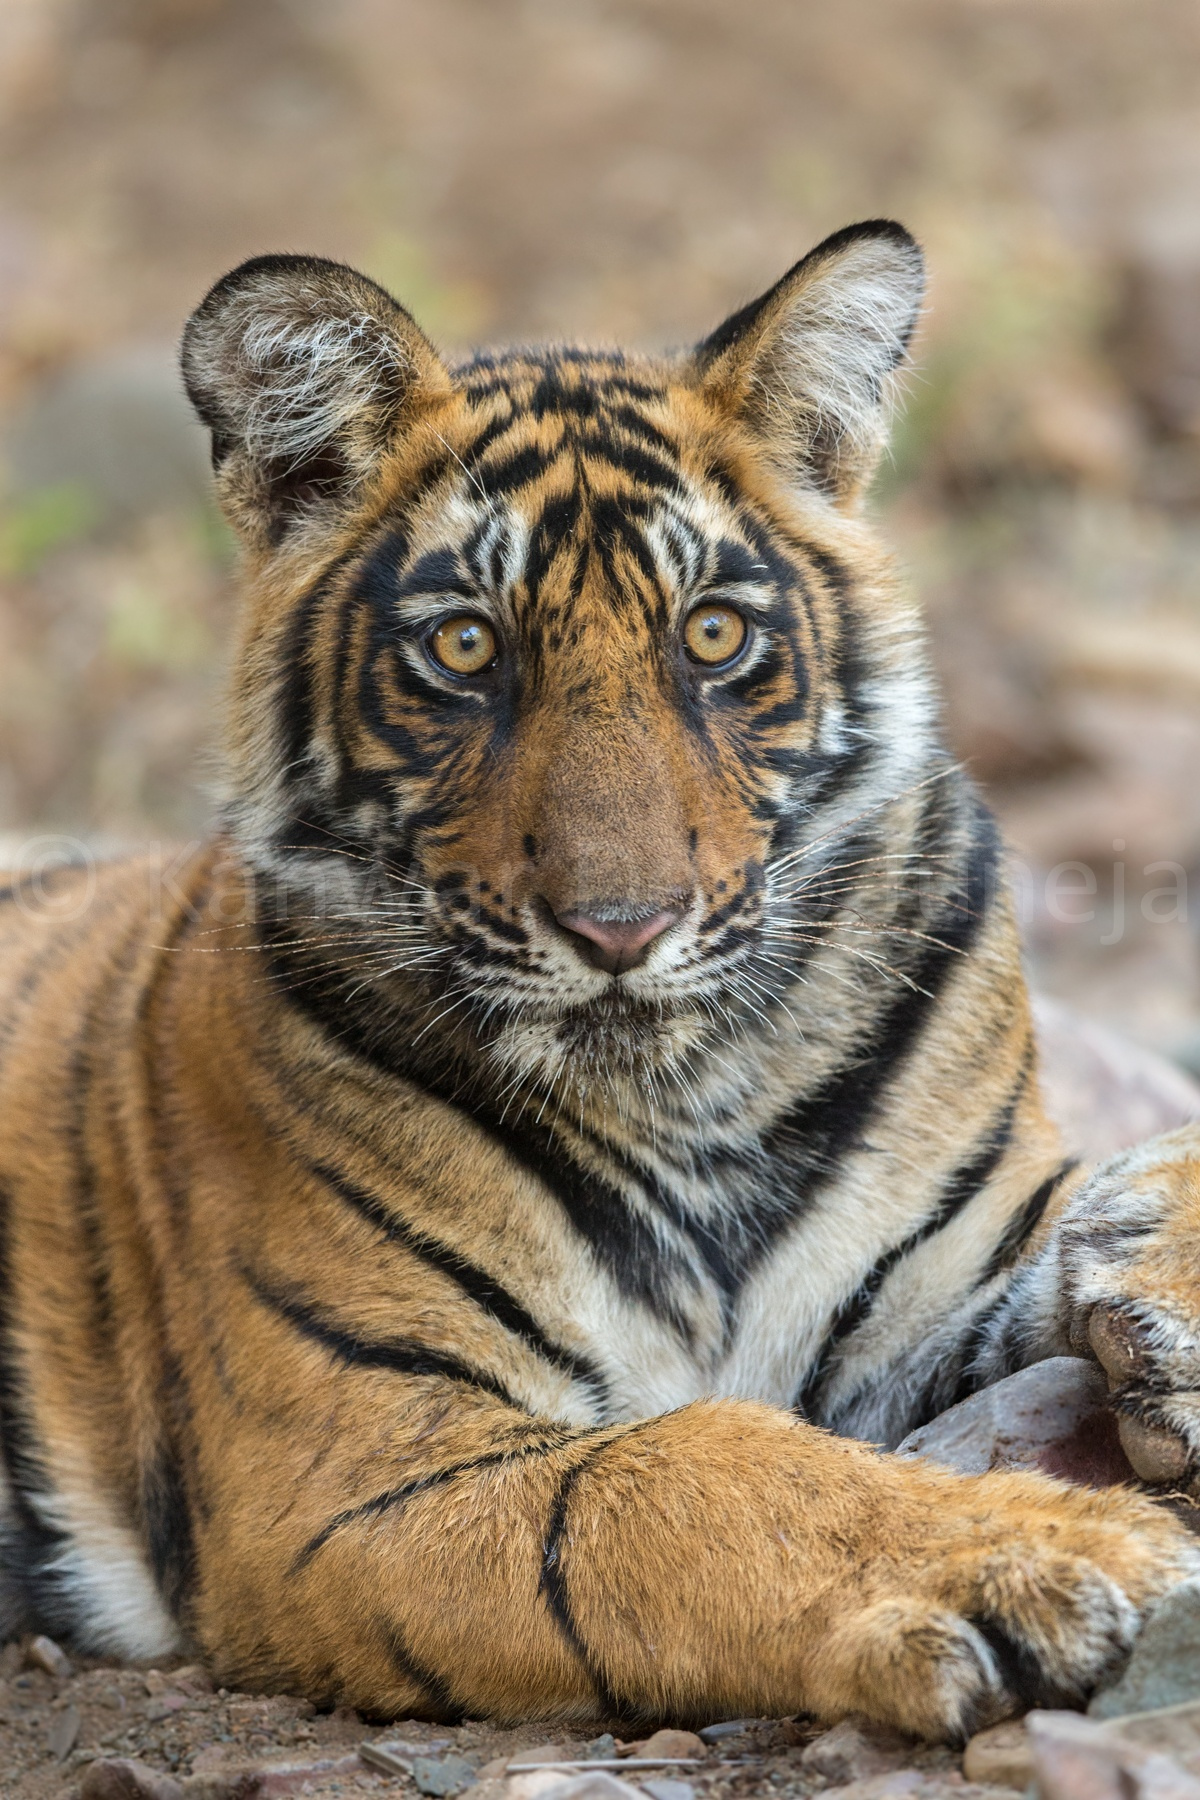tiger: (106, 196, 1149, 1730)
